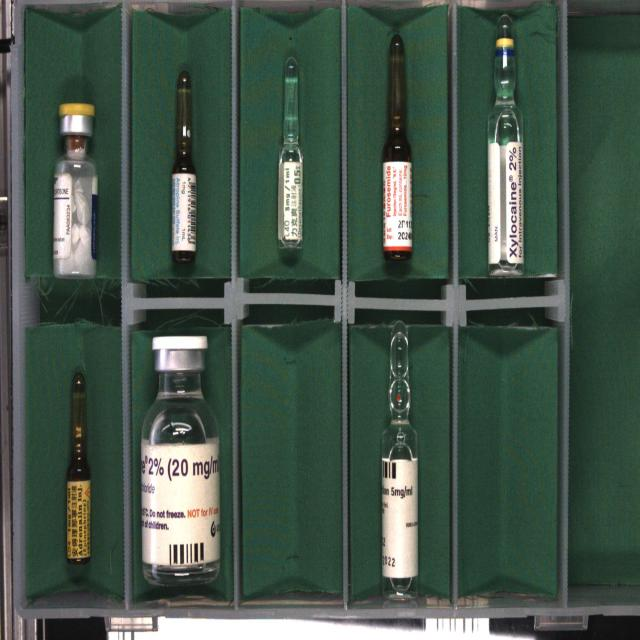Vials: (141, 335, 220, 586), (53, 103, 98, 278)
